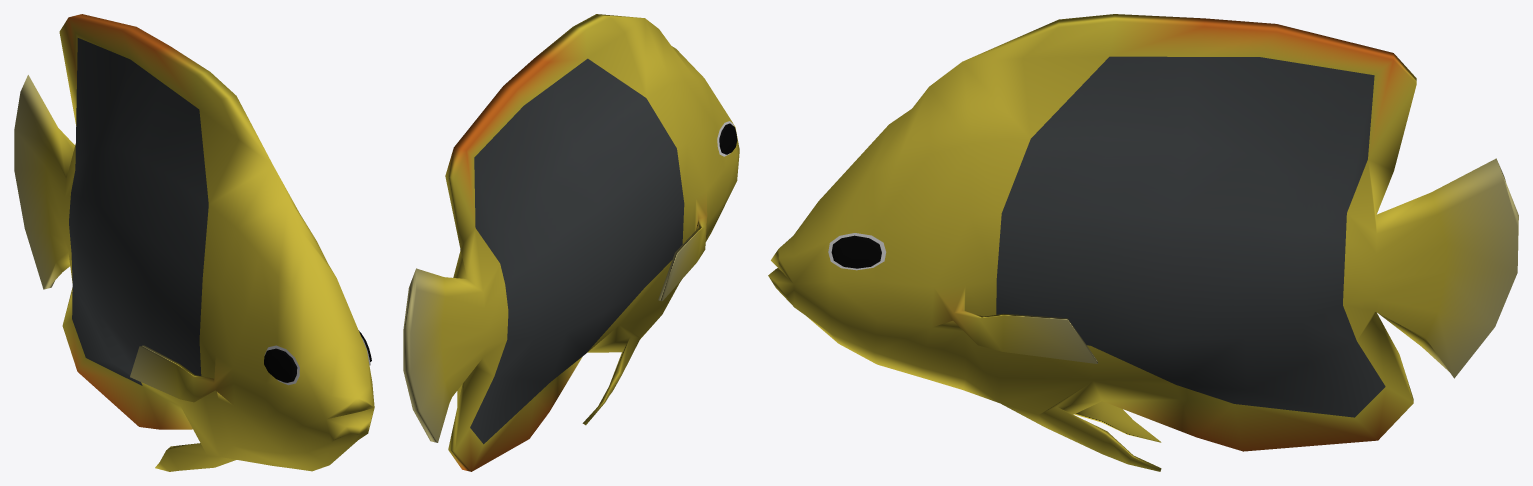
The model's file is underwater-fish-reef-fish_v2.glb.
3 views of the same model, side by side, from view 1: azimuth 30°, elevation 25°; view 2: azimuth 150°, elevation 25°; view 3: azimuth 270°, elevation 25° (orthographic). The views are drawn at different scales.
Visible parts, largest first — view 1: Reef Fish_v2; view 2: Reef Fish_v2; view 3: Reef Fish_v2.
Boxes of the visible parts, box(x1,y1,x2,y2) form: Reef Fish_v2: box(14, 14, 374, 471); Reef Fish_v2: box(403, 14, 739, 471); Reef Fish_v2: box(768, 14, 1518, 471).
Size of the model in its own units: 0.0716 by 0.1614 by 0.25.
